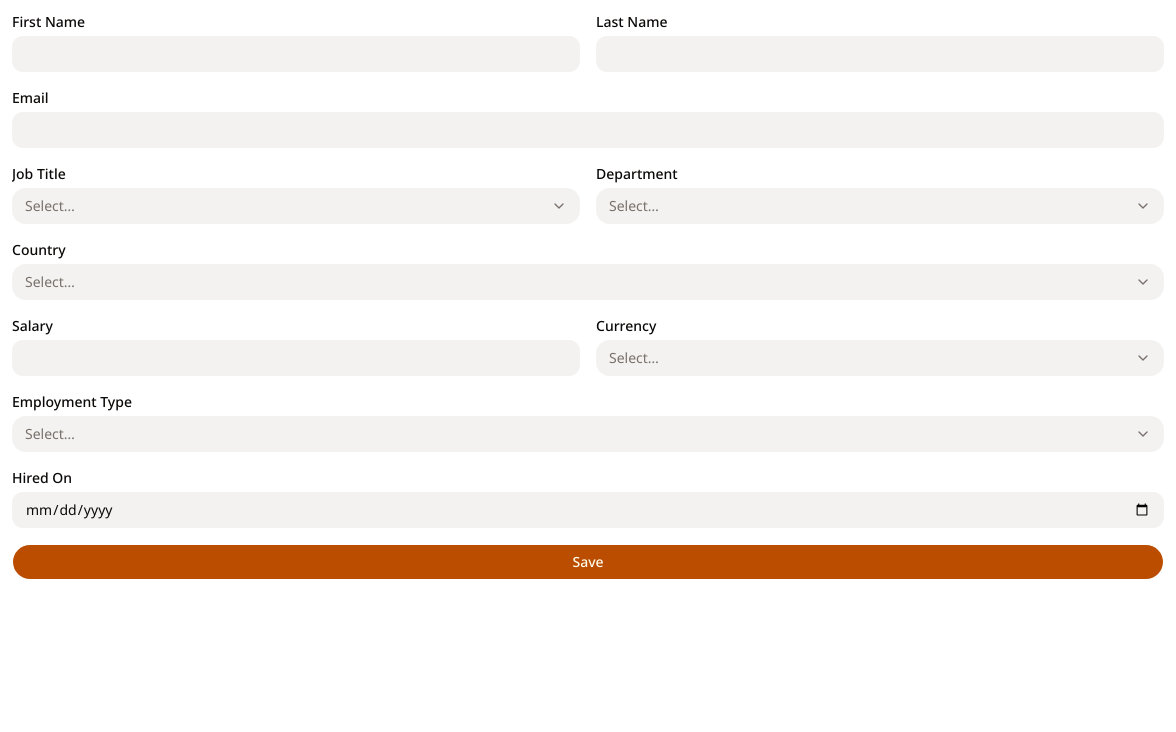
EmployeeForm › renders a department select with the provided options
Click the dropdown named "department". click: {"x": 634, "y": 206}
box: left=596, top=188, right=1164, bottom=224
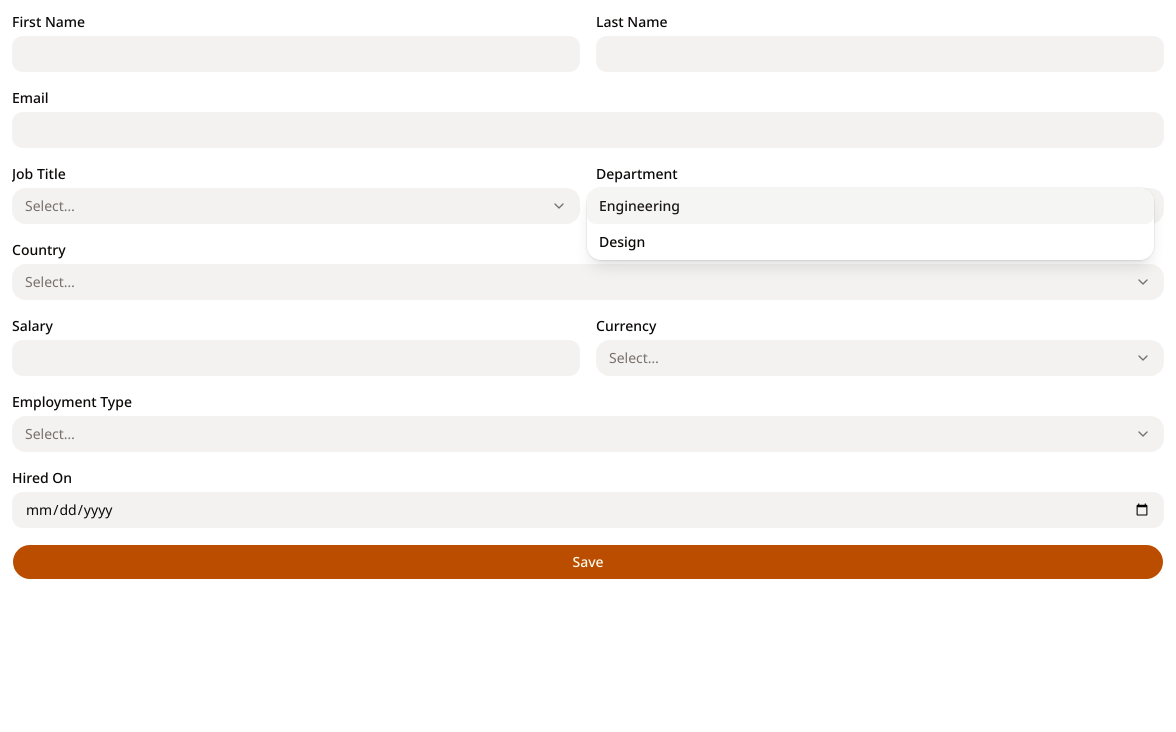
Now the option "Engineering" is shown, box left=587, top=188, right=1154, bottom=224
Now the option "Design" is shown, box left=599, top=232, right=645, bottom=251
